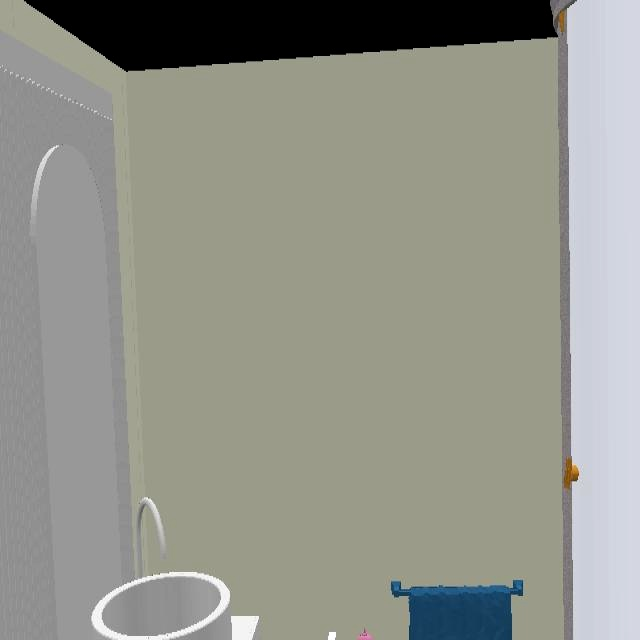washbasin: (89, 572, 232, 640)
